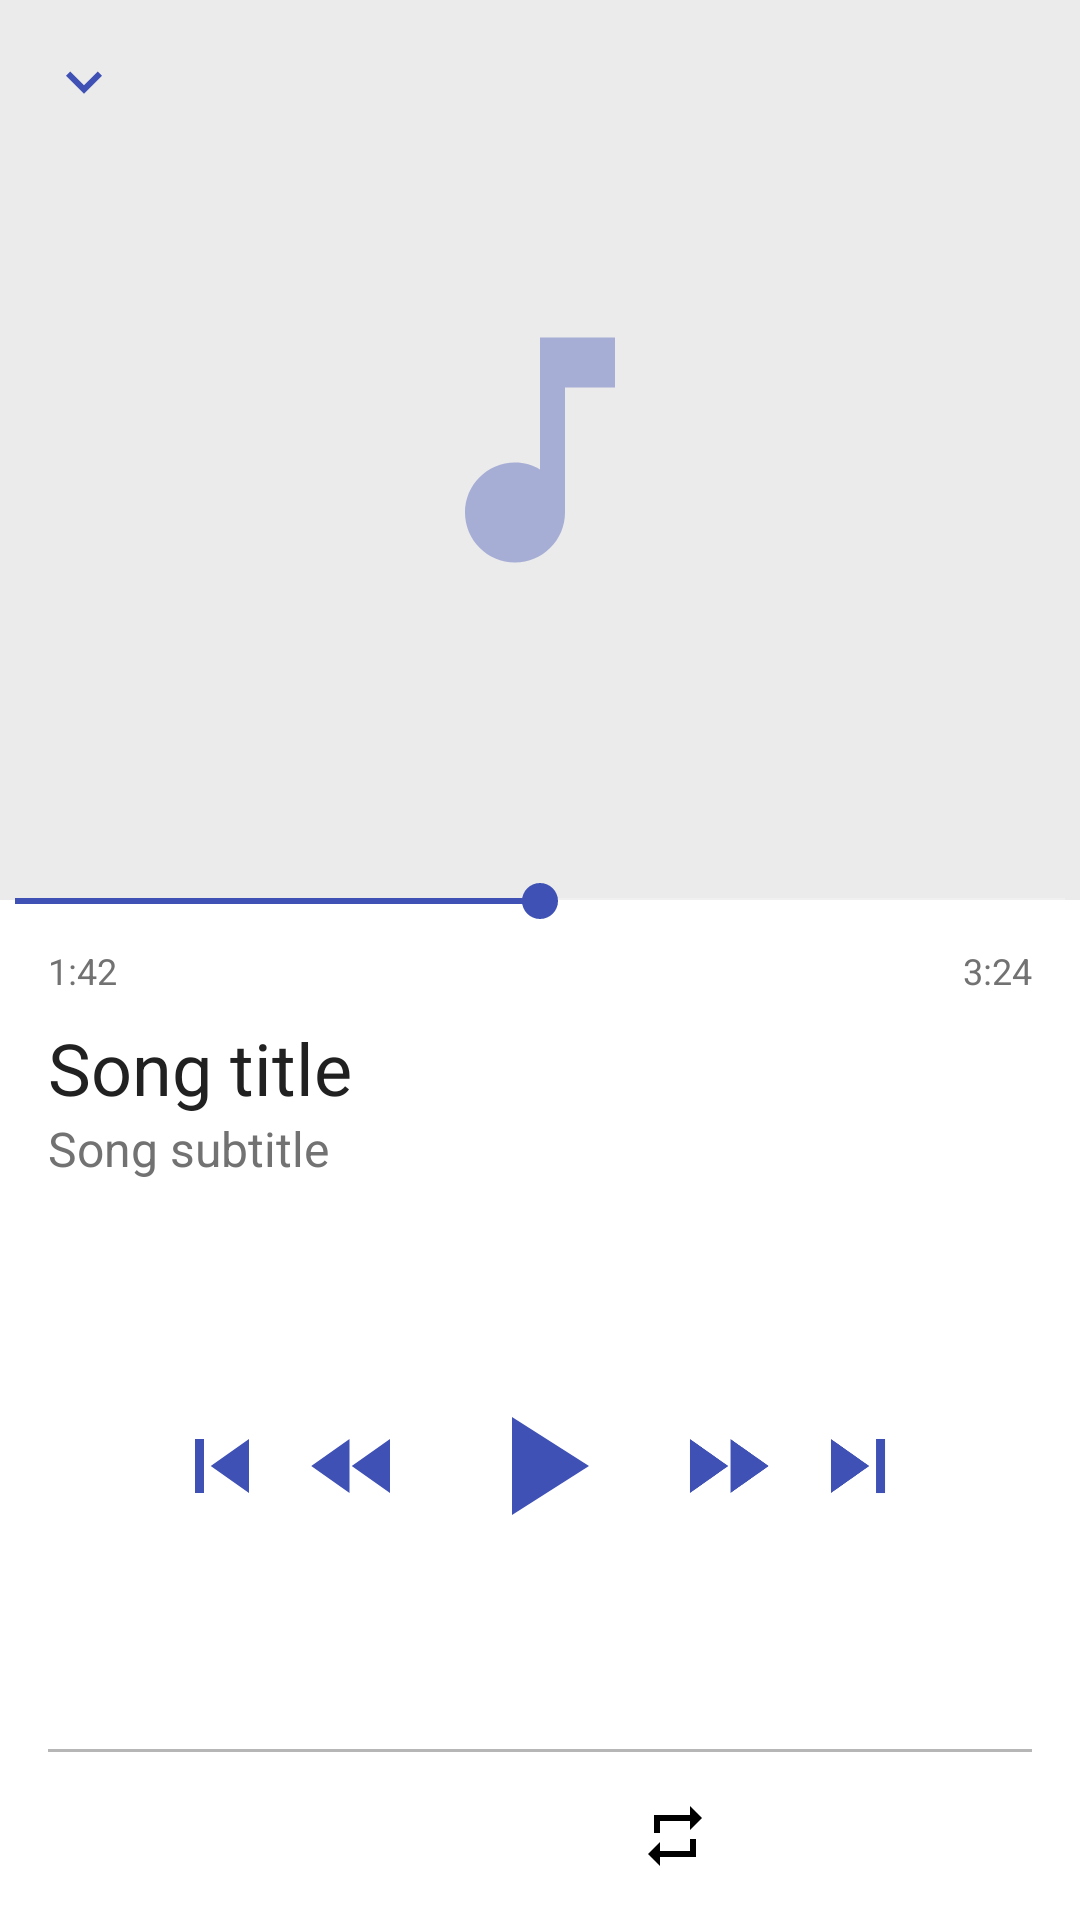

Icon bounding boxes for this 1080px x 1920px phone screenshot, format (x1, y1, x2, y2):
fast forward: (690, 1439, 768, 1493)
fast rewind: (311, 1439, 390, 1493)
keyboard arrow down: (66, 71, 102, 94)
play arrow: (512, 1417, 589, 1515)
repeat: (648, 1806, 702, 1866)
skip next: (831, 1439, 885, 1493)
skip previous: (195, 1439, 249, 1493)
